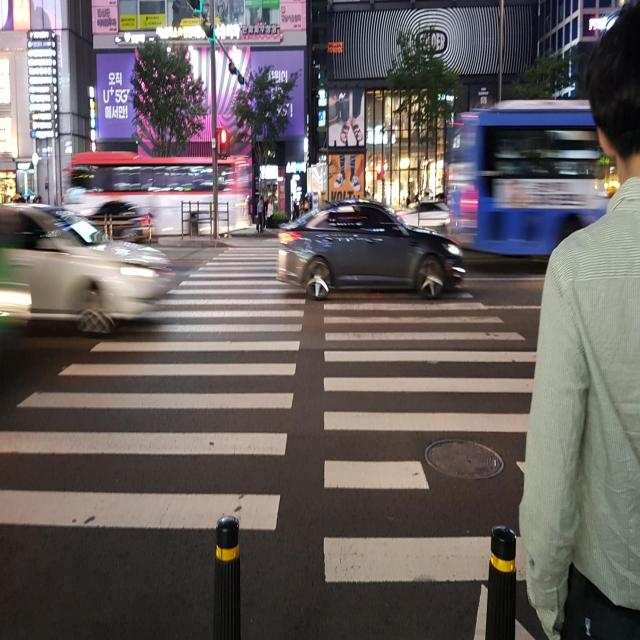빨간불: (218, 128, 230, 157)
횡단보도: (0, 240, 543, 640)
